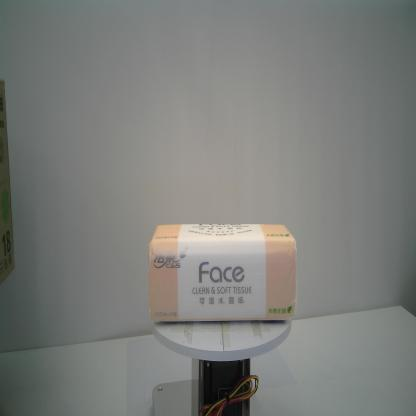Tissue: (146, 222, 298, 323)
